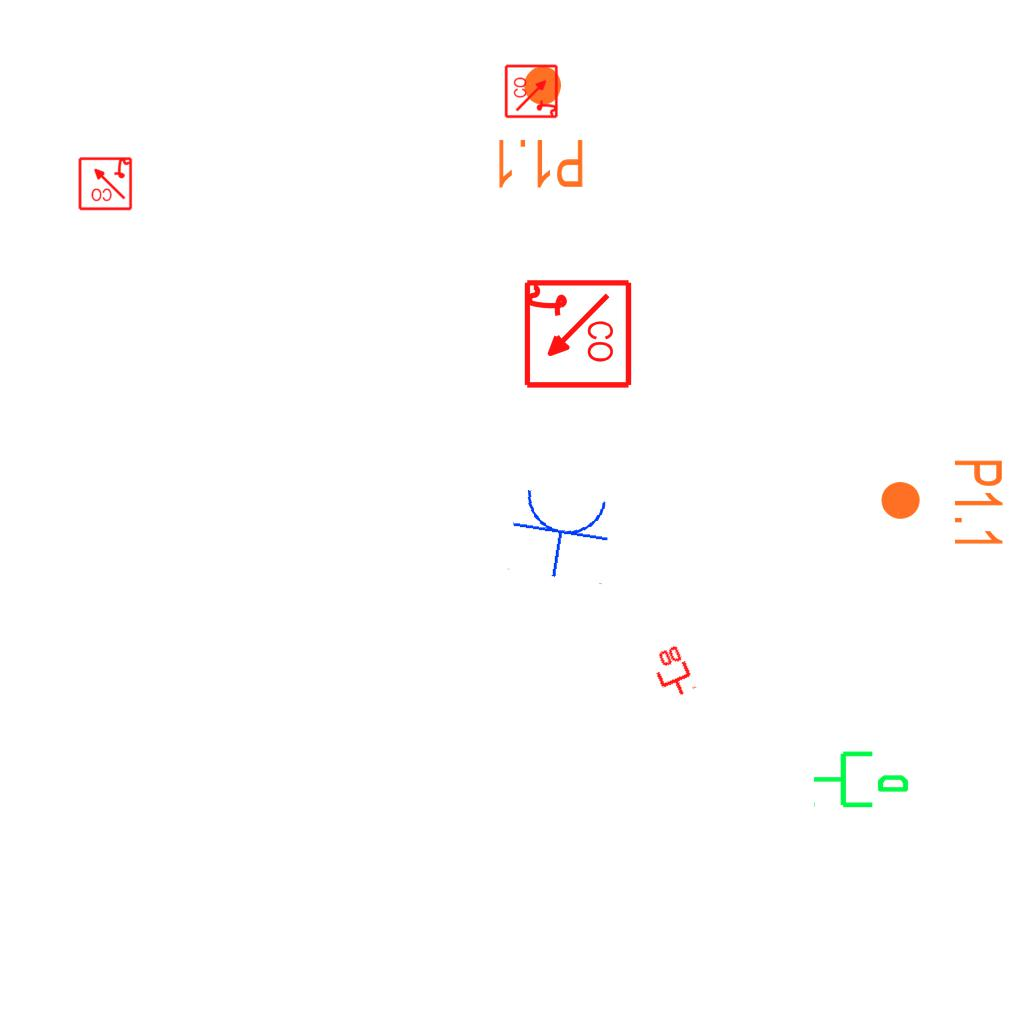Datenanschluss_einfach: (811, 743, 911, 812)
Datenanschluss_zweifach: (646, 642, 698, 703)
Downlight_LED_Einbauleuchten_Flur: (878, 457, 1006, 550), (493, 63, 586, 191)
ROA_Rauchmelder_optisch_mit_Signalgeber_(Sockelsirene): (520, 278, 633, 391), (77, 155, 133, 211), (504, 63, 560, 119)
Schukosteckdose_einfach: (504, 483, 618, 586)
